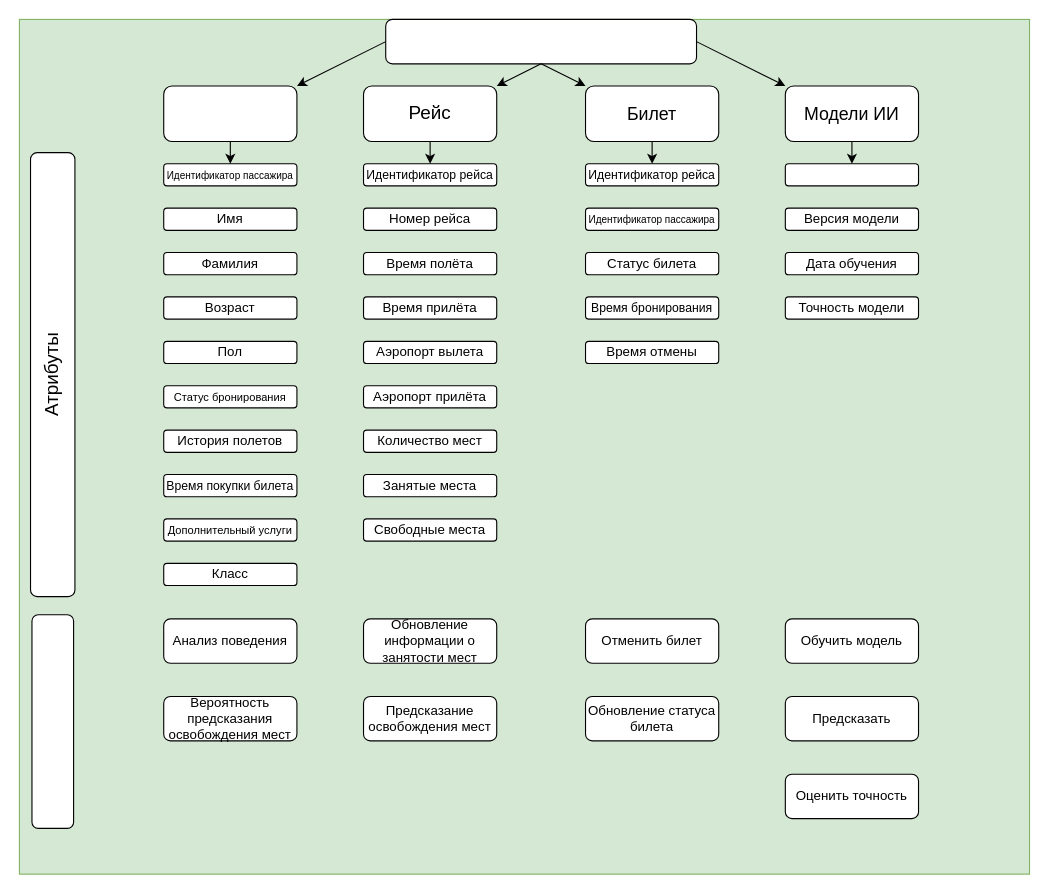
The diagram is 1049 pixels wide and 894 high, and some of its shapes have lost their labels. Here are the shapes that lost their labels. From the top down, the centre of each, then its label:
point (541, 41): Основные объекты продукта
point (230, 113): Пассажир
point (851, 174): Идентификатор модели
point (52, 721): Операции
